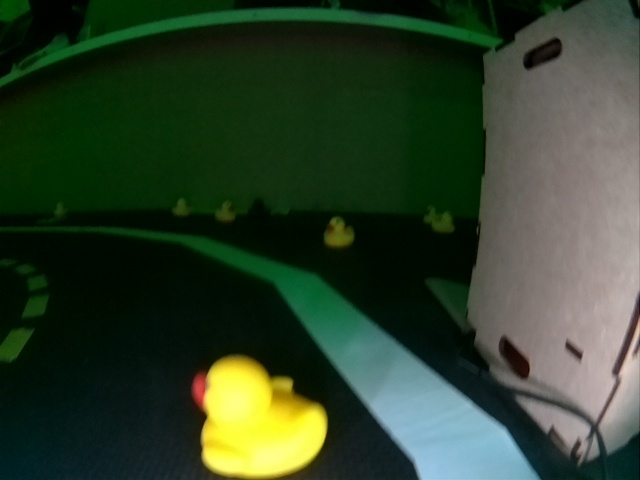Duckie: (193, 359, 323, 478), (324, 219, 354, 247), (434, 213, 453, 234), (216, 200, 234, 221), (171, 198, 190, 217), (423, 204, 437, 222), (53, 202, 67, 217)
